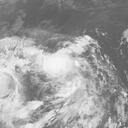cyclone: (42, 49, 95, 103)
